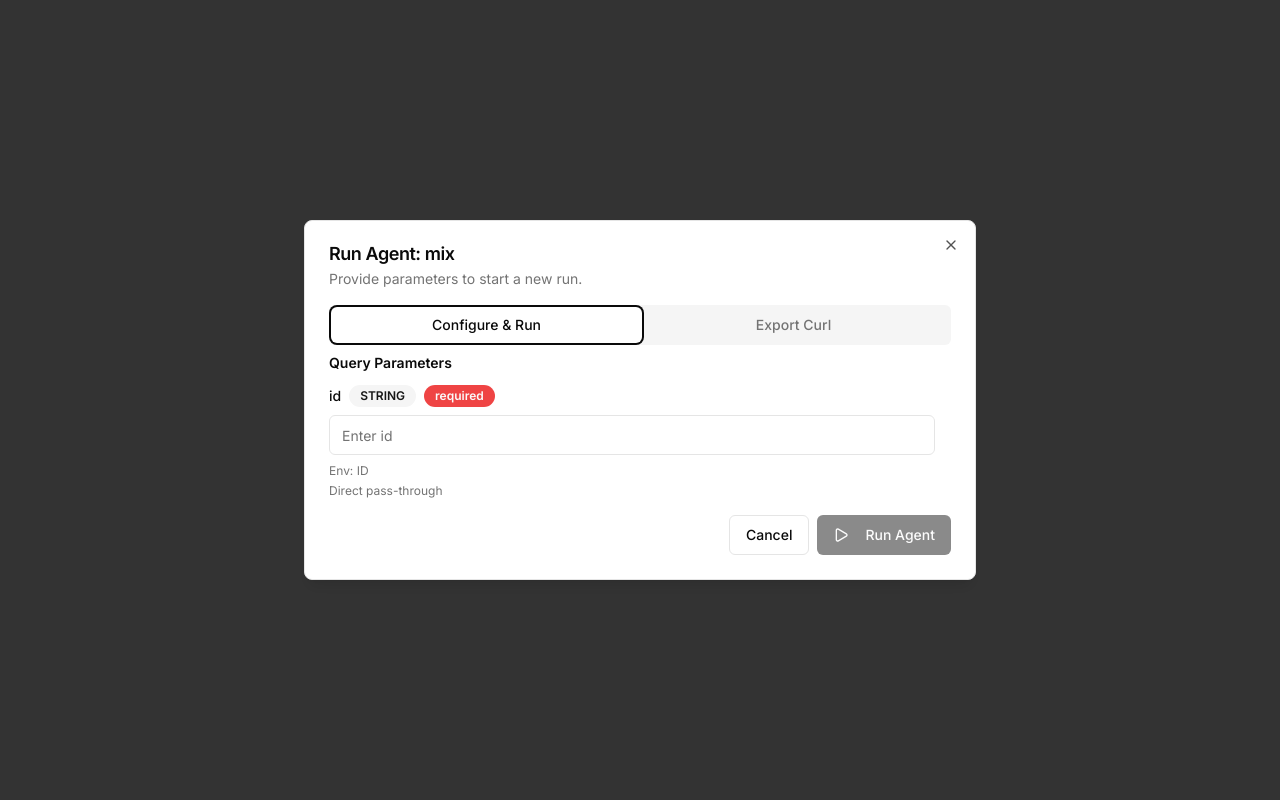
Test: RunAgentDialog with mixed sources › shows the manual-body note in the curl tab when the agent has no body inputs
Click the tab "Export Curl" at (794, 325), box [640,309,947,341]
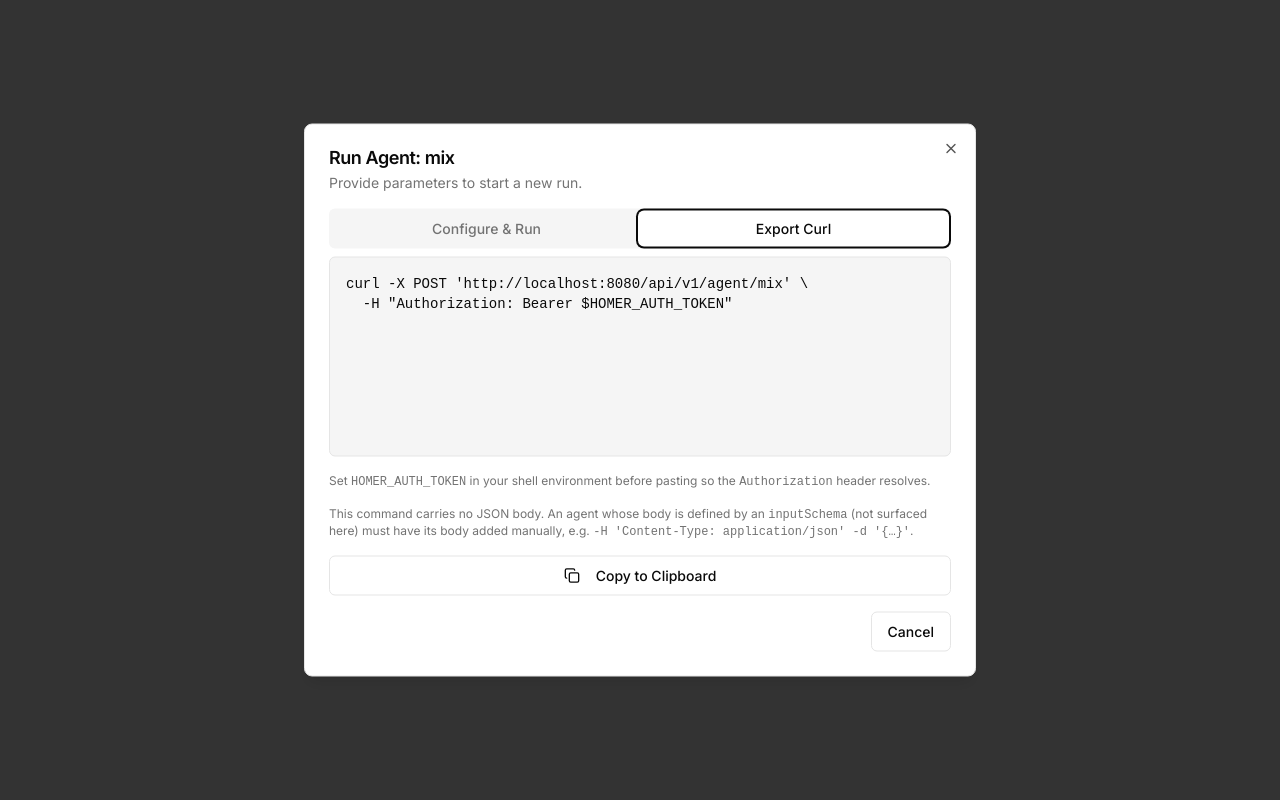
Expected: the text "carries no JSON body" is shown, [329,506,768,520]
